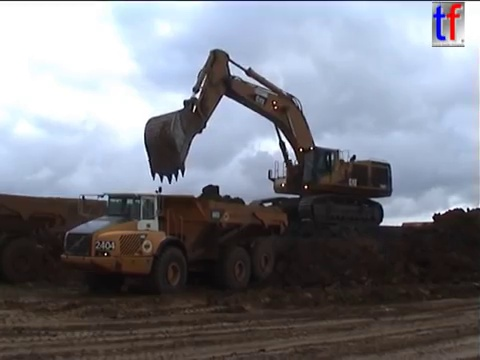excavator: (141, 46, 397, 228)
truck: (58, 184, 292, 297), (1, 190, 154, 287), (400, 214, 468, 243)
